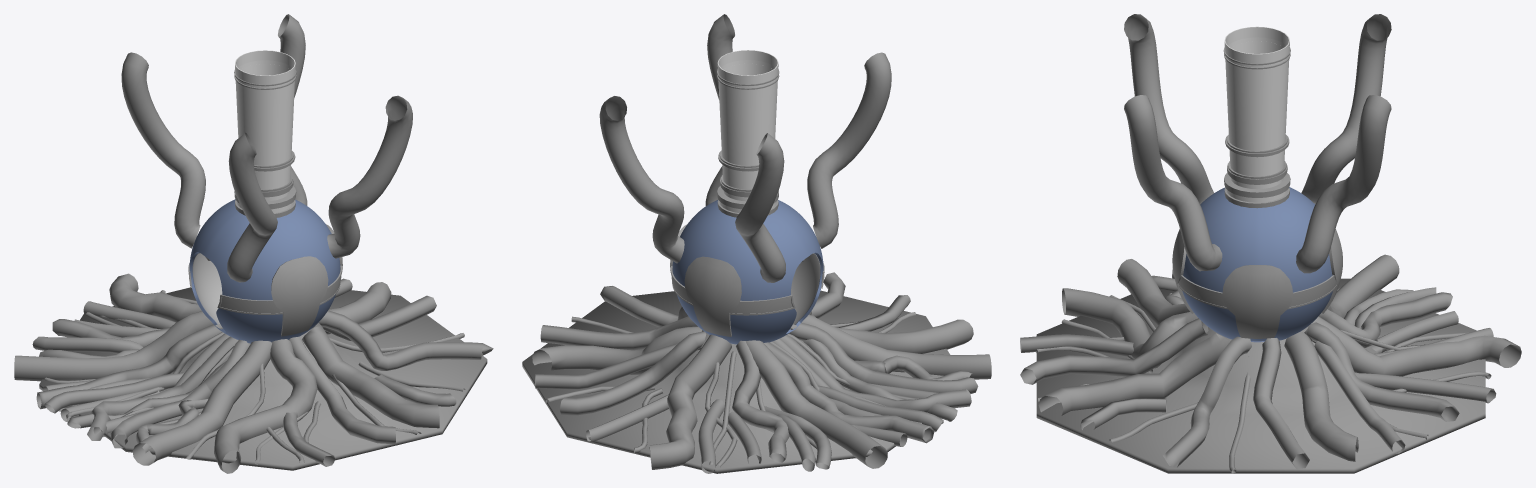
The model's file is CryoFinal.fbx.
3 views of the same model, side by side, from view 1: azimuth 30°, elevation 25°; view 2: azimuth 150°, elevation 25°; view 3: azimuth 270°, elevation 25° (orthographic). The views are drawn at different scales.
Parts seen in each view (by area): view 1: BezierCurve.004, BezierCurve.013, CryoCables, BezierCurve, Cryo, BezierCurve.008, Cylinder.030, BezierCurve.007, Sphere.006, BezierCurve.001, Sphere.001, Sphere.008; view 2: BezierCurve, BezierCurve.004, BezierCurve.013, CryoCables, BezierCurve.008, Cryo, Cylinder.030, BezierCurve.007, Sphere.006, BezierCurve.001, Sphere.001, Sphere.008; view 3: CryoCables, BezierCurve.004, BezierCurve.013, BezierCurve, Cylinder.030, Cryo, BezierCurve.008, Sphere.002, BezierCurve.007, Sphere.008, Sphere.006.
Boxes of the visible parts, bbox=[...] form: BezierCurve.004: bbox=[14, 273, 439, 473]; BezierCurve.013: bbox=[121, 14, 412, 282]; CryoCables: bbox=[39, 287, 487, 470]; BezierCurve: bbox=[36, 295, 493, 448]; Cryo: bbox=[189, 199, 340, 343]; BezierCurve.008: bbox=[32, 278, 456, 466]; Cylinder.030: bbox=[234, 50, 296, 217]; BezierCurve.007: bbox=[44, 290, 465, 464]; Sphere.006: bbox=[271, 256, 328, 336]; BezierCurve.001: bbox=[43, 301, 229, 437]; Sphere.001: bbox=[192, 253, 222, 324]; Sphere.008: bbox=[188, 263, 341, 314]; BezierCurve: bbox=[540, 272, 978, 462]; BezierCurve.004: bbox=[532, 311, 991, 469]; BezierCurve.013: bbox=[599, 14, 891, 282]; CryoCables: bbox=[522, 290, 950, 473]; BezierCurve.008: bbox=[535, 295, 972, 471]; Cryo: bbox=[672, 200, 823, 344]; Cylinder.030: bbox=[717, 50, 779, 217]; BezierCurve.007: bbox=[545, 312, 943, 467]; Sphere.006: bbox=[684, 256, 741, 336]; BezierCurve.001: bbox=[698, 338, 955, 473]; Sphere.001: bbox=[791, 253, 820, 324]; Sphere.008: bbox=[670, 263, 824, 315]; CryoCables: bbox=[1036, 278, 1485, 473]; BezierCurve.004: bbox=[1038, 254, 1521, 461]; BezierCurve.013: bbox=[1124, 14, 1391, 273]; BezierCurve: bbox=[1020, 268, 1459, 469]; Cylinder.030: bbox=[1223, 26, 1290, 208]; Cryo: bbox=[1182, 187, 1332, 341]; BezierCurve.008: bbox=[1020, 275, 1496, 453]; Sphere.002: bbox=[1222, 265, 1292, 338]; BezierCurve.007: bbox=[1036, 287, 1491, 473]; Sphere.008: bbox=[1178, 275, 1336, 309]; Sphere.006: bbox=[1172, 229, 1342, 313].
Bounding box in the file's own units: 1332 × 1032 × 1363.
